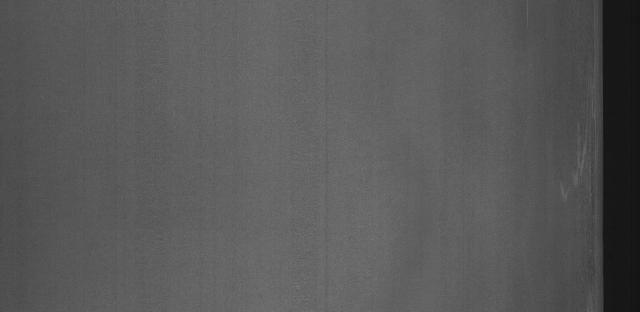silk_spot: (539, 118, 597, 214)
